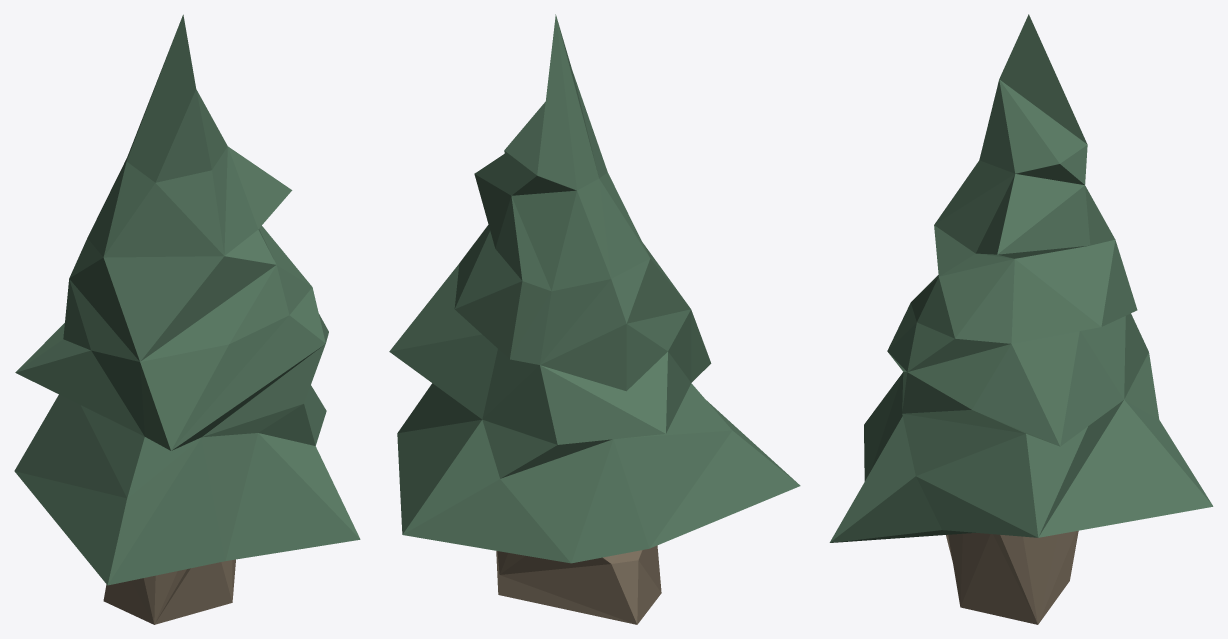
The model's file is TreePine_01.FBX.
3 views of the same model, side by side, from view 1: azimuth 30°, elevation 25°; view 2: azimuth 150°, elevation 25°; view 3: azimuth 270°, elevation 25° (orthographic). The views are drawn at different scales.
Visible parts, largest first — view 1: TreePine_001; view 2: TreePine_001; view 3: TreePine_001.
Boxes of the visible parts, x1=… form: TreePine_001: x1=14, y1=14, x2=360, y2=624; TreePine_001: x1=389, y1=14, x2=800, y2=624; TreePine_001: x1=829, y1=14, x2=1213, y2=624.
Bounding box in the file's own units: 0.9939 × 1.06 × 1.78.
